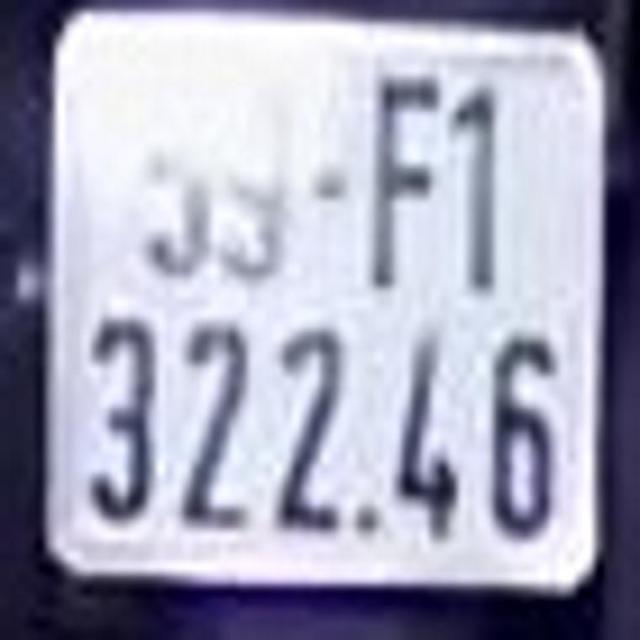1: (453, 83, 501, 304)
2: (184, 326, 263, 524), (282, 324, 345, 534)
3: (76, 308, 160, 511)
4: (408, 320, 468, 540)
5: (136, 64, 213, 268)
6: (489, 331, 567, 544)
9: (225, 73, 288, 280)
F: (372, 66, 443, 303)
